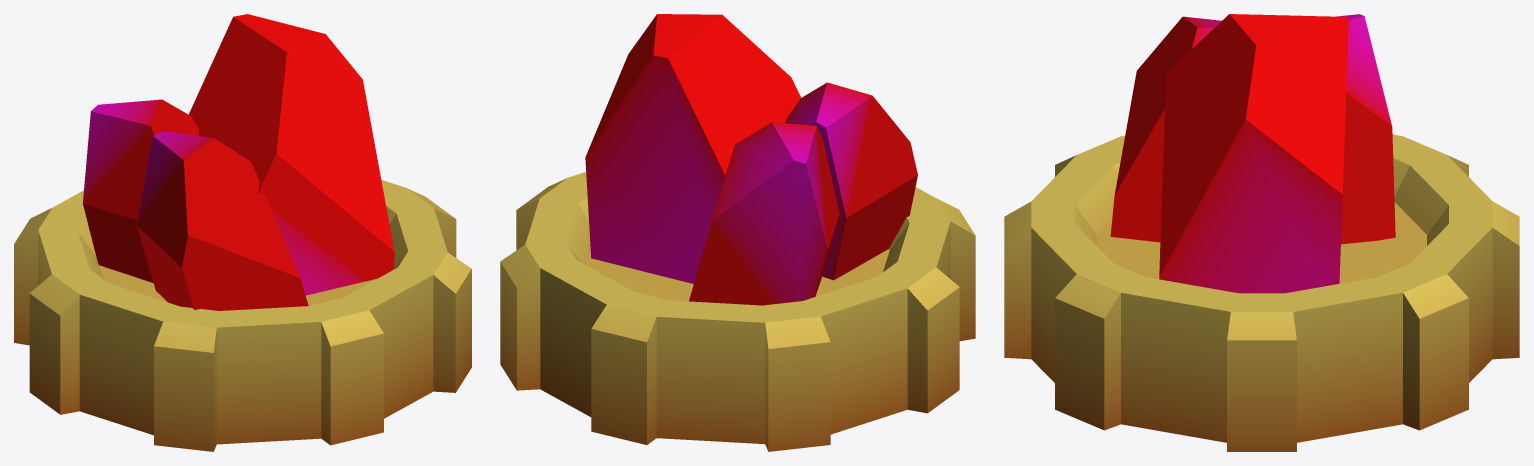
Rendered from красный слот.fbx.
3 views of the same model, side by side, from view 1: azimuth 30°, elevation 25°; view 2: azimuth 150°, elevation 25°; view 3: azimuth 270°, elevation 25° (orthographic). The views are drawn at different scales.
Parts seen in each view (by area): view 1: Cylinder.018, Cube.018; view 2: Cylinder.018, Cube.018; view 3: Cylinder.018, Cube.018.
Part boxes in pixels (x1,y1,x2,y2): Cylinder.018: (14,180,471,451); Cube.018: (83,14,394,310); Cylinder.018: (500,172,975,451); Cube.018: (585,14,917,305); Cylinder.018: (1004,134,1519,451); Cube.018: (1110,14,1395,293).
Bounding box in the file's own units: 212 × 158 × 212.
